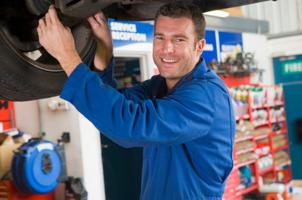person: (36, 1, 238, 200)
